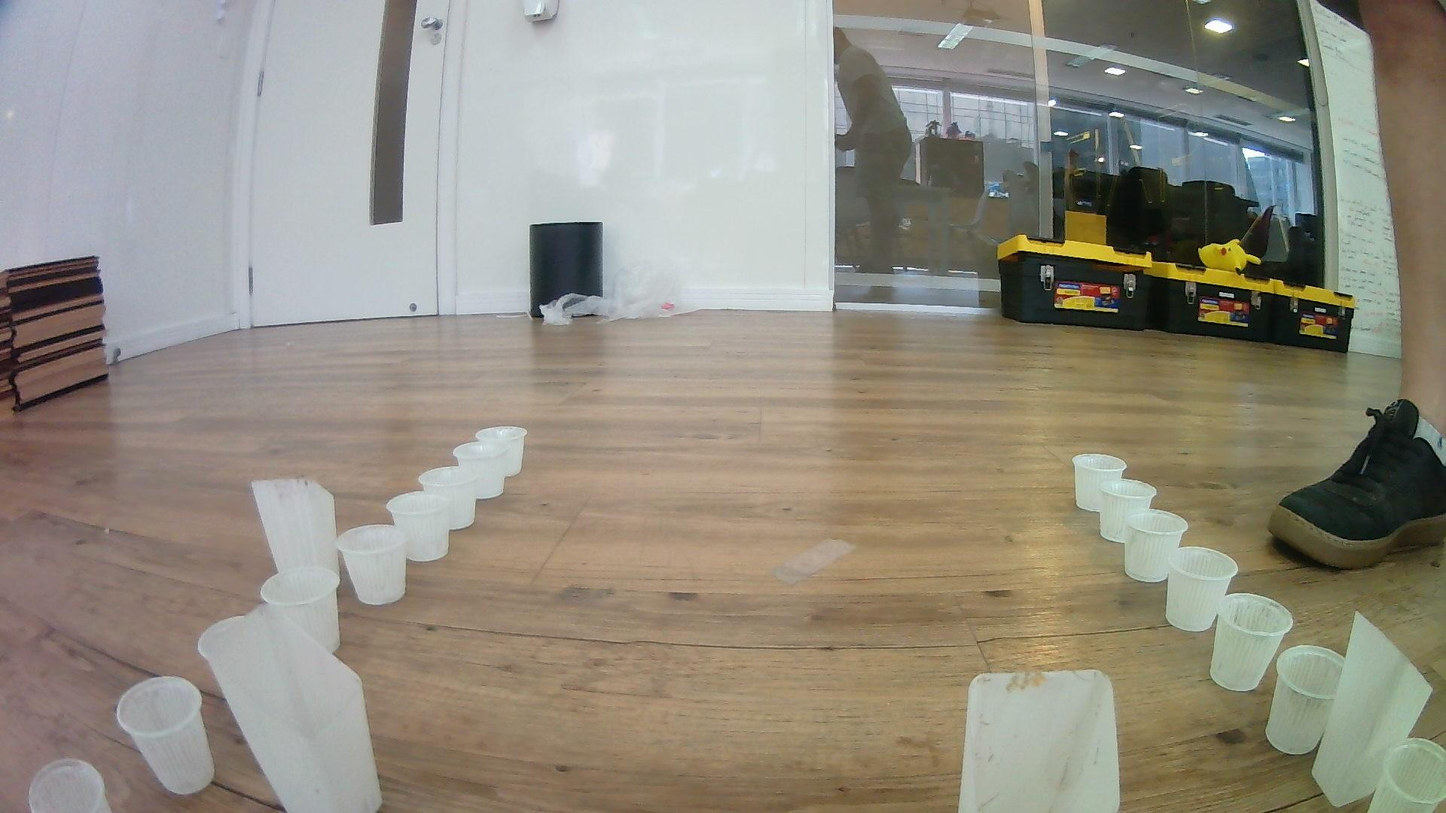erva_daninha: (197, 604, 385, 813), (1310, 611, 1435, 808), (956, 668, 1121, 813), (250, 478, 342, 587)
planta: (111, 674, 217, 795), (1264, 644, 1347, 756), (1208, 592, 1295, 693), (258, 568, 343, 653), (1164, 546, 1240, 632), (1365, 737, 1446, 813), (335, 523, 408, 605), (24, 756, 113, 813), (1122, 508, 1189, 583), (386, 492, 453, 562), (415, 465, 480, 530), (1098, 478, 1158, 544), (450, 440, 511, 500), (1072, 452, 1128, 512), (474, 425, 528, 478)
